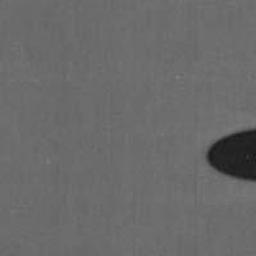Punching: (205, 129, 256, 183)
